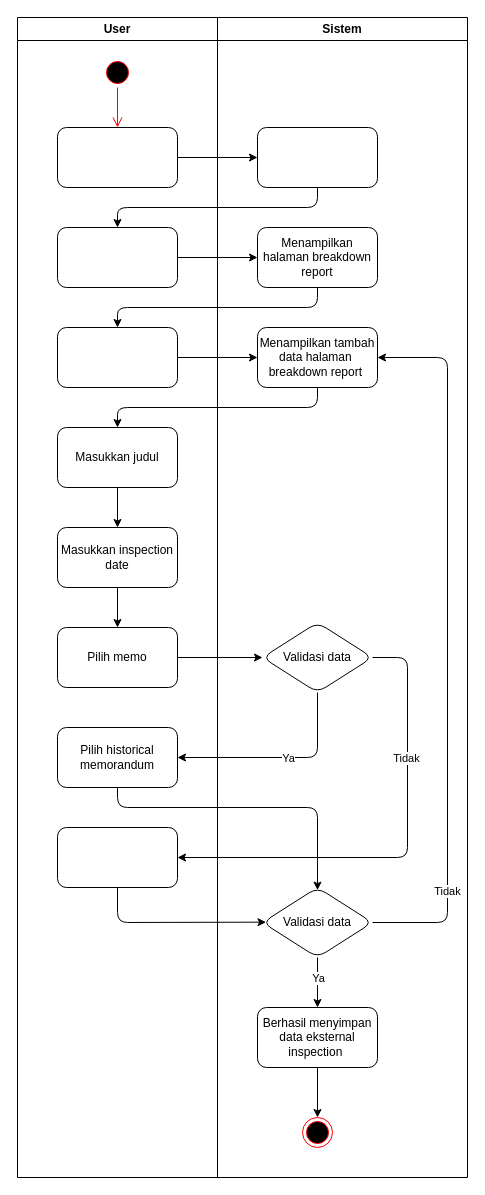
Some shapes in this 485 by 1195 pixel diagram are drawn without their labels. Here are the shapes that lost their labels. From the top down, the centre of each, then its label:
At (117,157): "Pilih fitur laporan inspection".
At (317,157): "Menampilkan halaman laporan inspection".
At (117,257): "Pilih detail (icon settings) pada salah satu data laporan inspection".
At (117,357): "Pilih tambah pada bagian breakdown report".
At (117,857): "Unggah laporan file".
